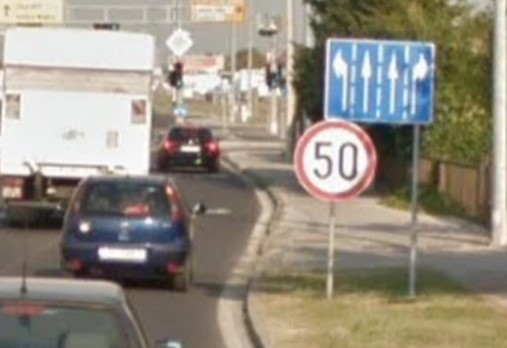Ograničenje brzine 50: (294, 120, 377, 202)
